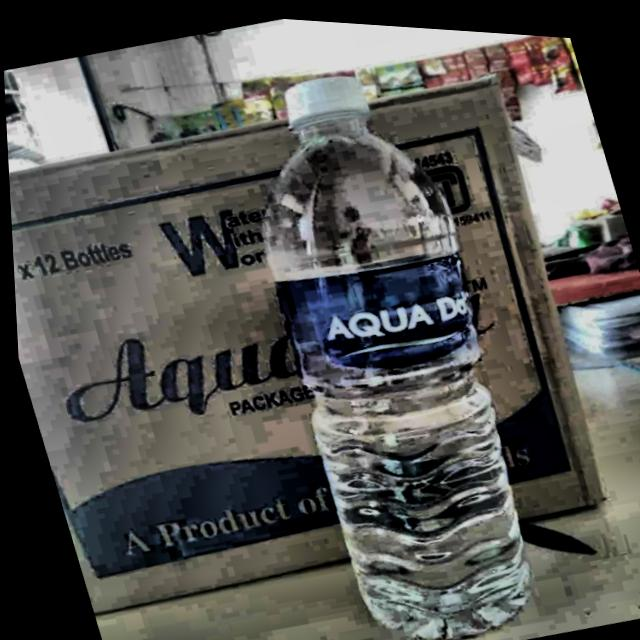Bottles: (187, 35, 585, 640)
